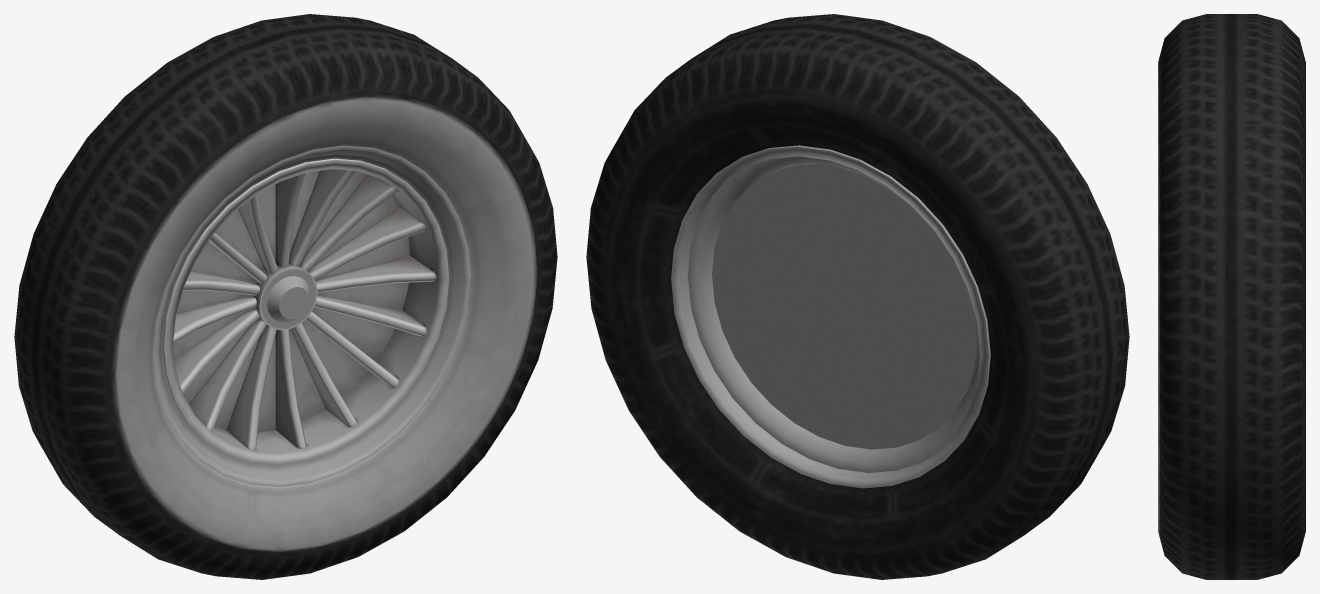
The model's file is SM_Classic_car03_Wheel.fbx.
3 renders of one model, left to right at view 1: azimuth 30°, elevation 25°; view 2: azimuth 150°, elevation 25°; view 3: azimuth 270°, elevation 25°, orthographic. The views are drawn at different scales.
Parts seen in each view (by area): view 1: SM_Classic_car03_Wheel_LOD0; view 2: SM_Classic_car03_Wheel_LOD0; view 3: SM_Classic_car03_Wheel_LOD0.
Boxes of the visible parts, x1,y1,x2,y2 form: SM_Classic_car03_Wheel_LOD0: (14,14,557,579); SM_Classic_car03_Wheel_LOD0: (586,14,1129,579); SM_Classic_car03_Wheel_LOD0: (1158,14,1305,579).
Size of the model in its own units: 69.92 by 18.26 by 69.92.
